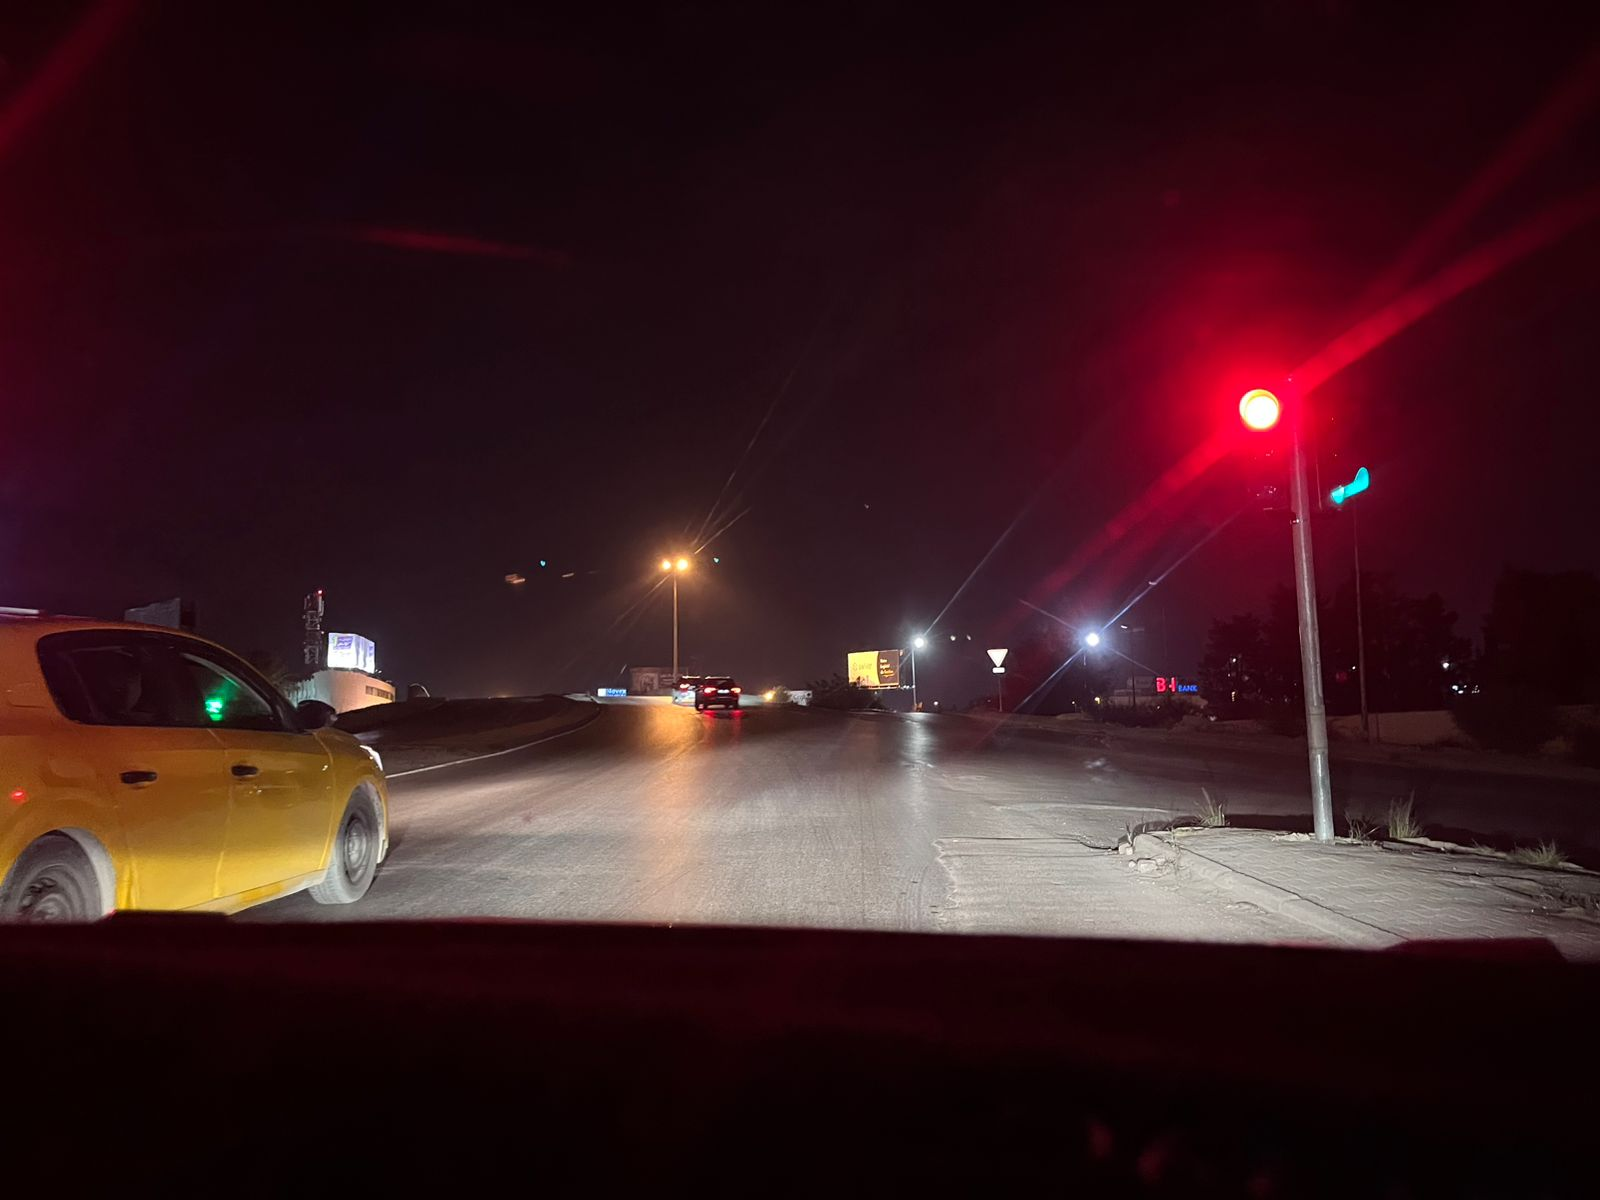RedLight: (1231, 369, 1295, 532)
